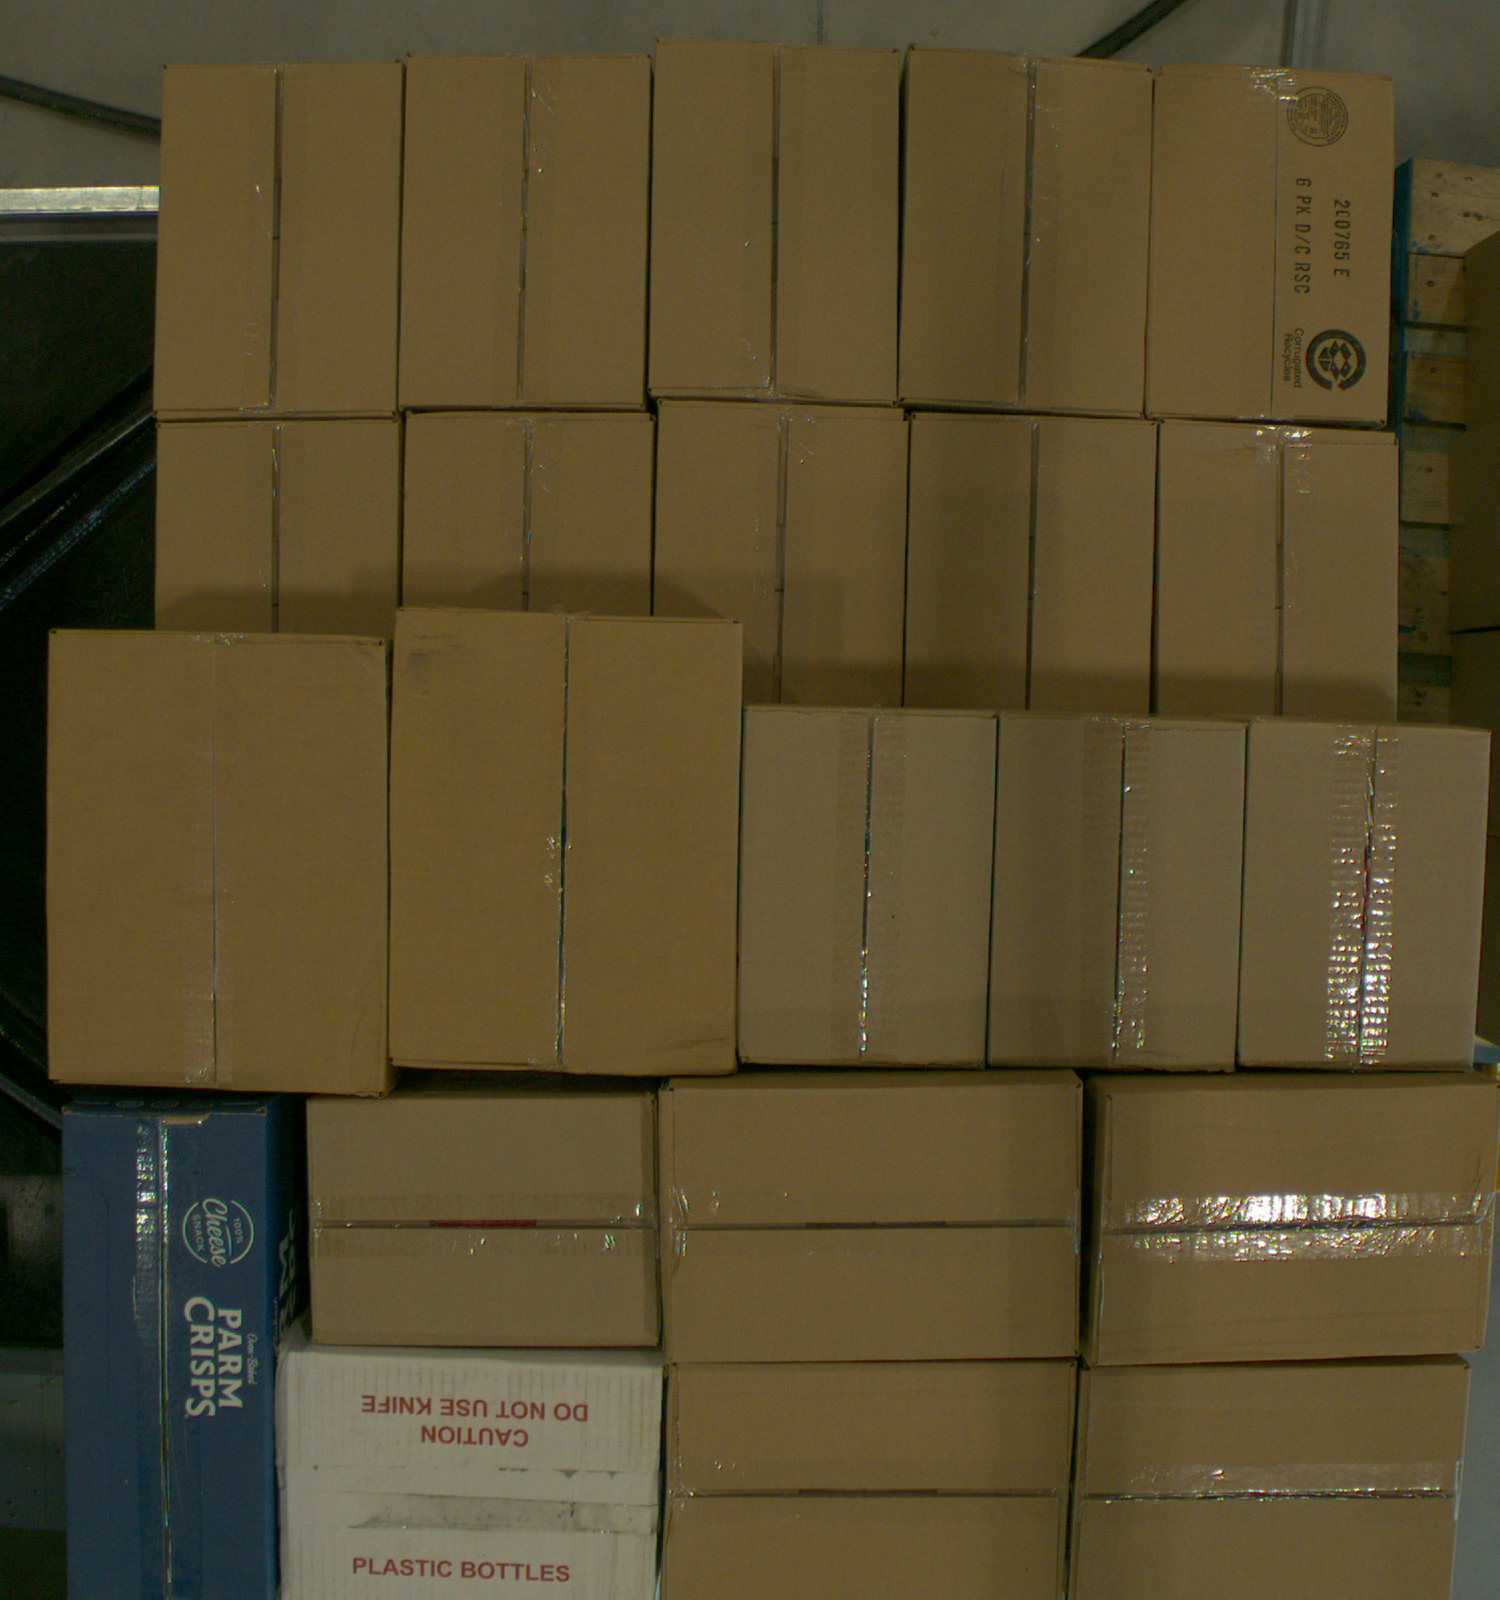box top: (388, 612, 742, 1074), (49, 632, 388, 1095), (664, 1078, 1088, 1355), (1094, 1083, 1500, 1366), (62, 1114, 273, 1600), (663, 1363, 1078, 1600), (276, 1350, 663, 1600), (1069, 1365, 1473, 1600), (985, 713, 1246, 1076), (899, 47, 1153, 419), (737, 708, 995, 1070), (650, 38, 899, 403), (154, 61, 405, 420), (400, 52, 653, 407), (1148, 63, 1394, 426), (1239, 722, 1492, 1071), (309, 1093, 660, 1343), (656, 400, 908, 708), (905, 413, 1157, 718), (1159, 421, 1398, 723), (156, 419, 400, 634), (402, 412, 654, 617)
